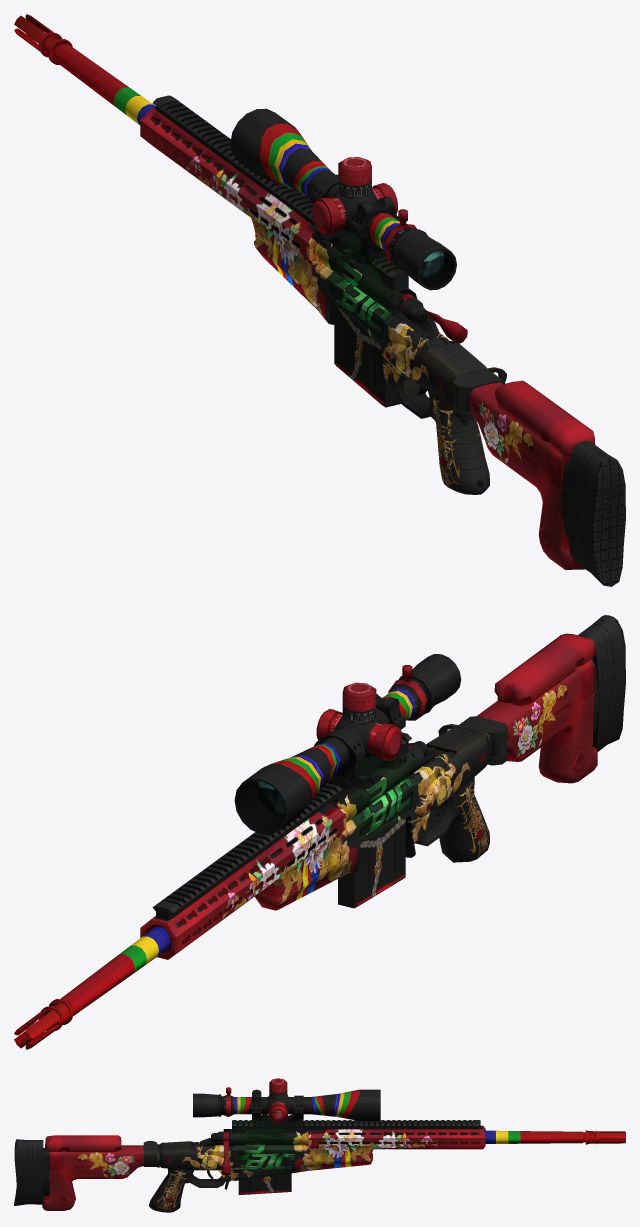
The model's file is Mk13_Mod7_PBIC2026.glb.
The picture shows the model from 3 angles, top to bottom: view 1: azimuth 30°, elevation 25°; view 2: azimuth 150°, elevation 25°; view 3: azimuth 270°, elevation 25°; orthographic projection. The views are drawn at different scales.
Parts seen in each view (by area): view 1: Mk13_Mod7_scope_LOD0; view 2: Mk13_Mod7_scope_LOD0; view 3: Mk13_Mod7_scope_LOD0.
Boxes of the visible parts, left/top/right/bottom form: Mk13_Mod7_scope_LOD0: left=14, top=14, right=625, bottom=586; Mk13_Mod7_scope_LOD0: left=14, top=615, right=625, bottom=1049; Mk13_Mod7_scope_LOD0: left=14, top=1078, right=625, bottom=1212.
Size of the model in its own units: 0.00119 by 0.00289 by 0.0126.
2 materials, 2 textured.
